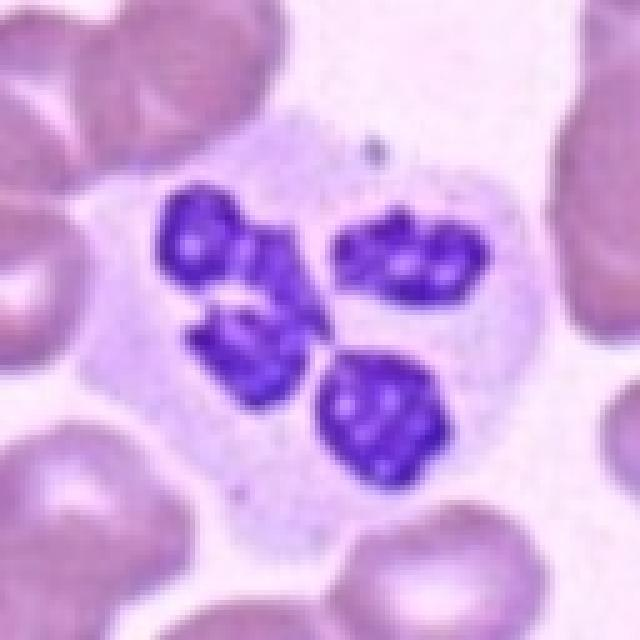neutro: (50, 94, 566, 477)
